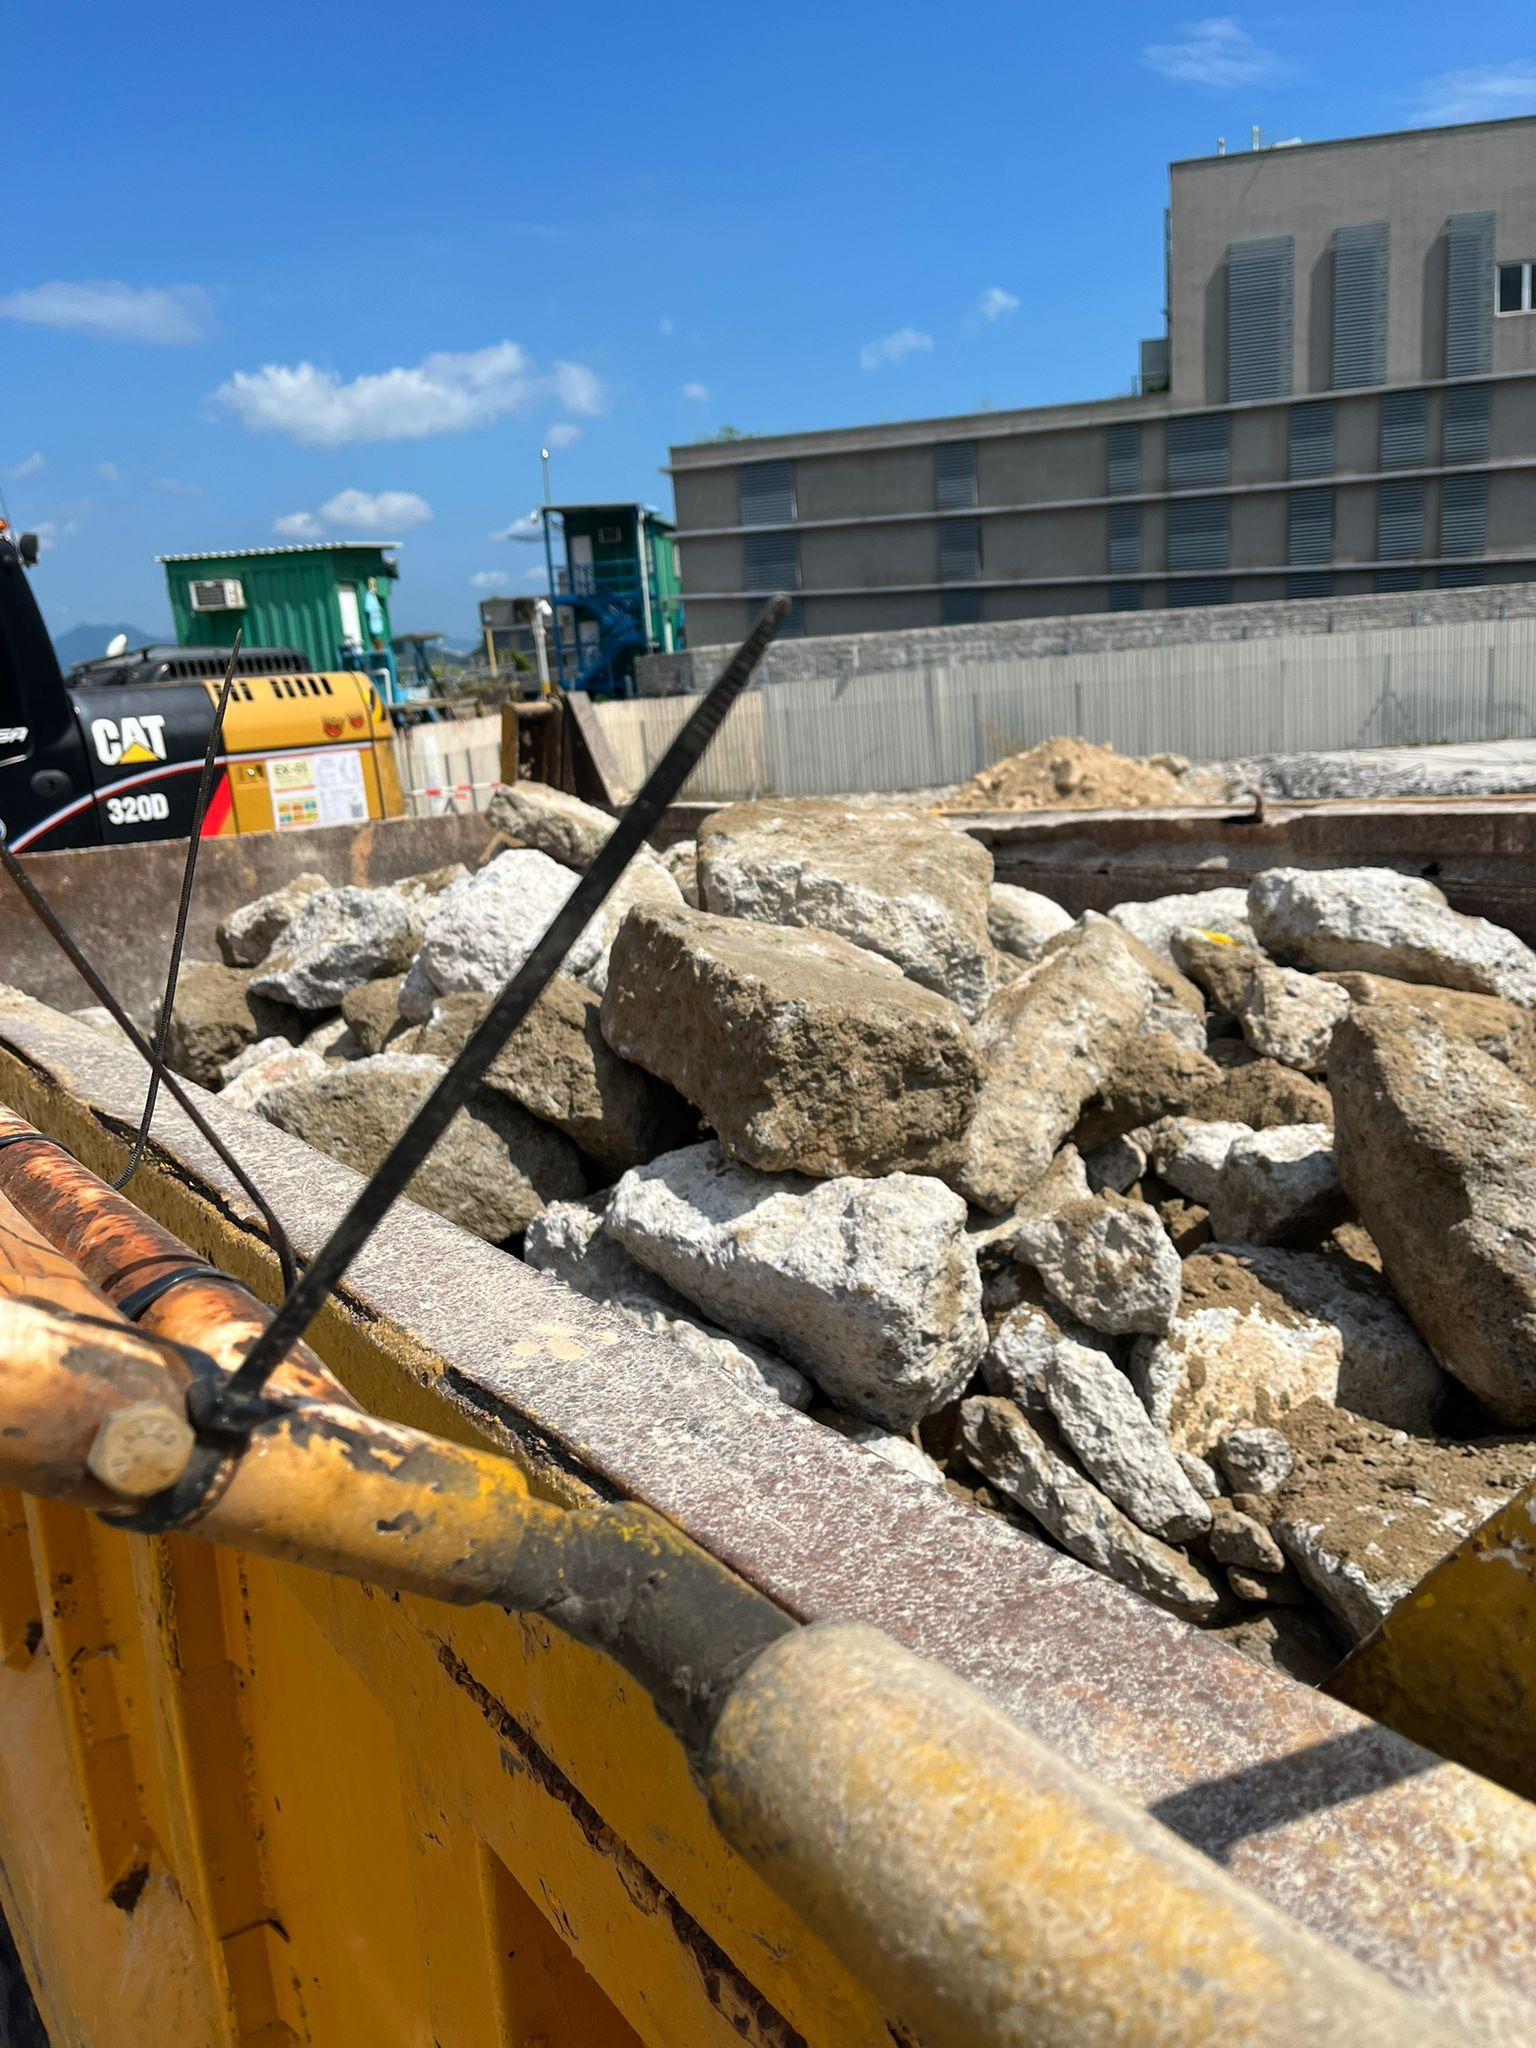dry: (194, 803, 1536, 1793)
